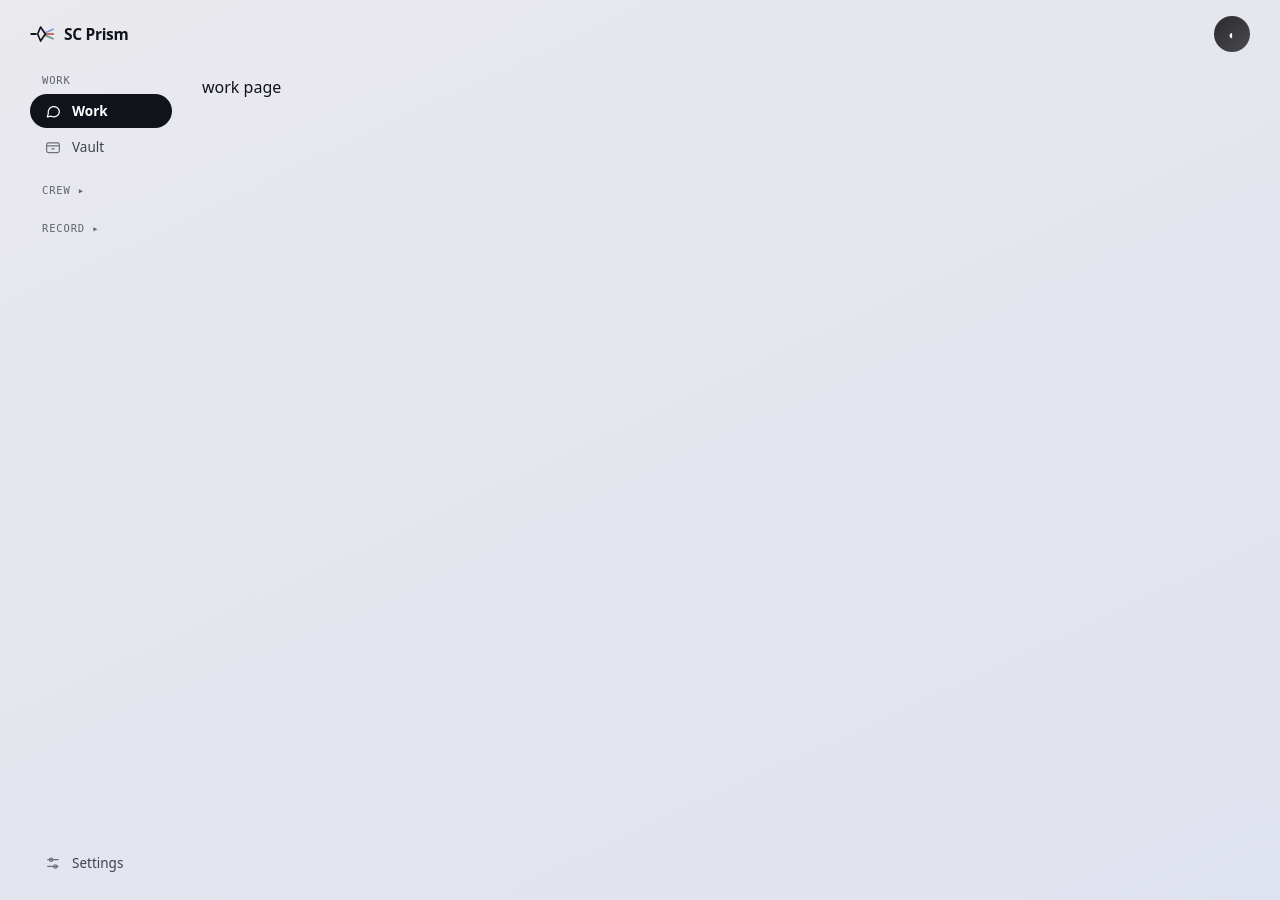
AppShell navigation — one rail, every destination, every page › navigating swaps the page and moves the marker with it
Expected: the text "work page" is shown, x1=202 y1=76 x2=281 y2=98
Click the button "Crew ▸" at (101, 193), box x1=30 y1=184 x2=172 y2=202
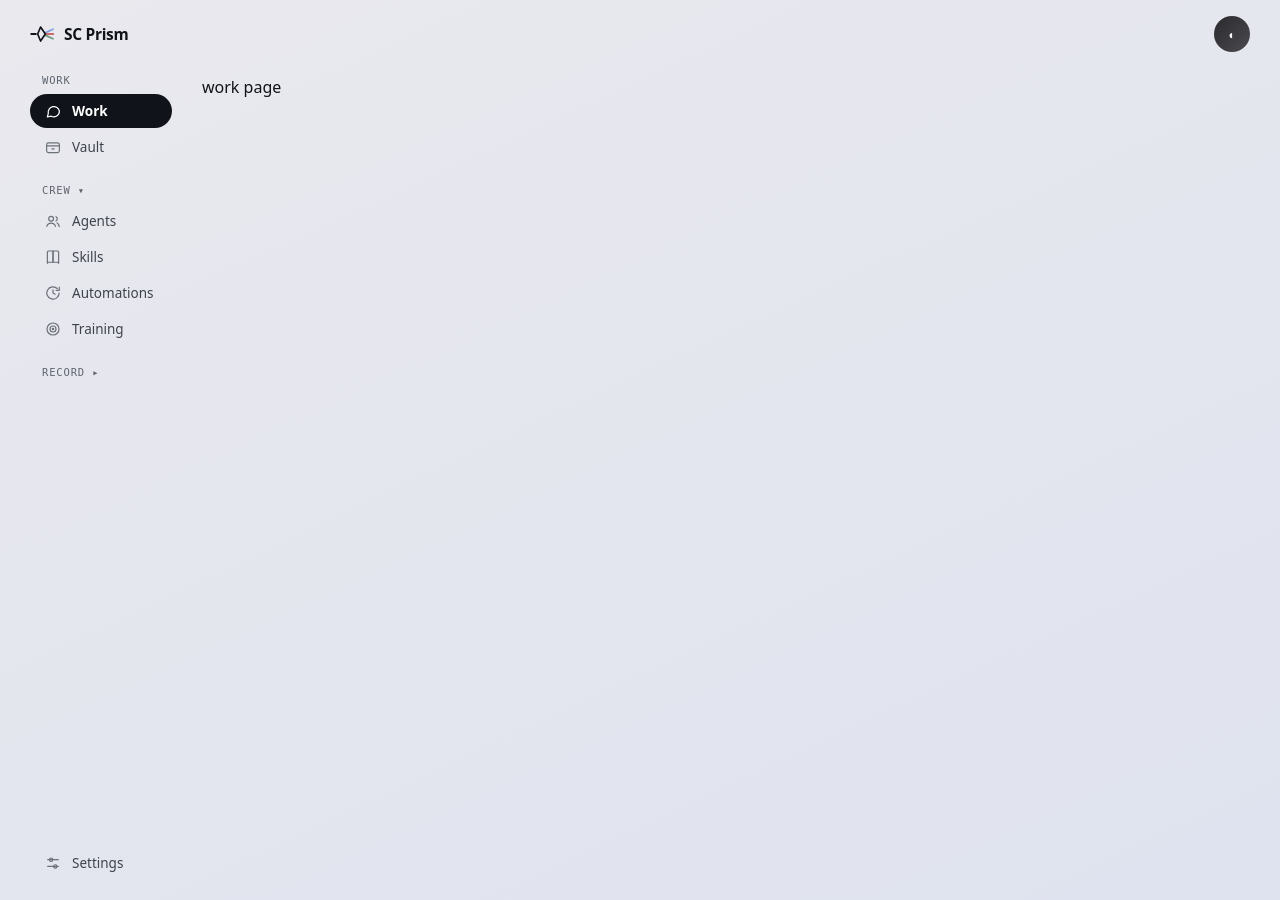
Click the link "Agents" at (80, 221), box x1=44 y1=212 x2=116 y2=230
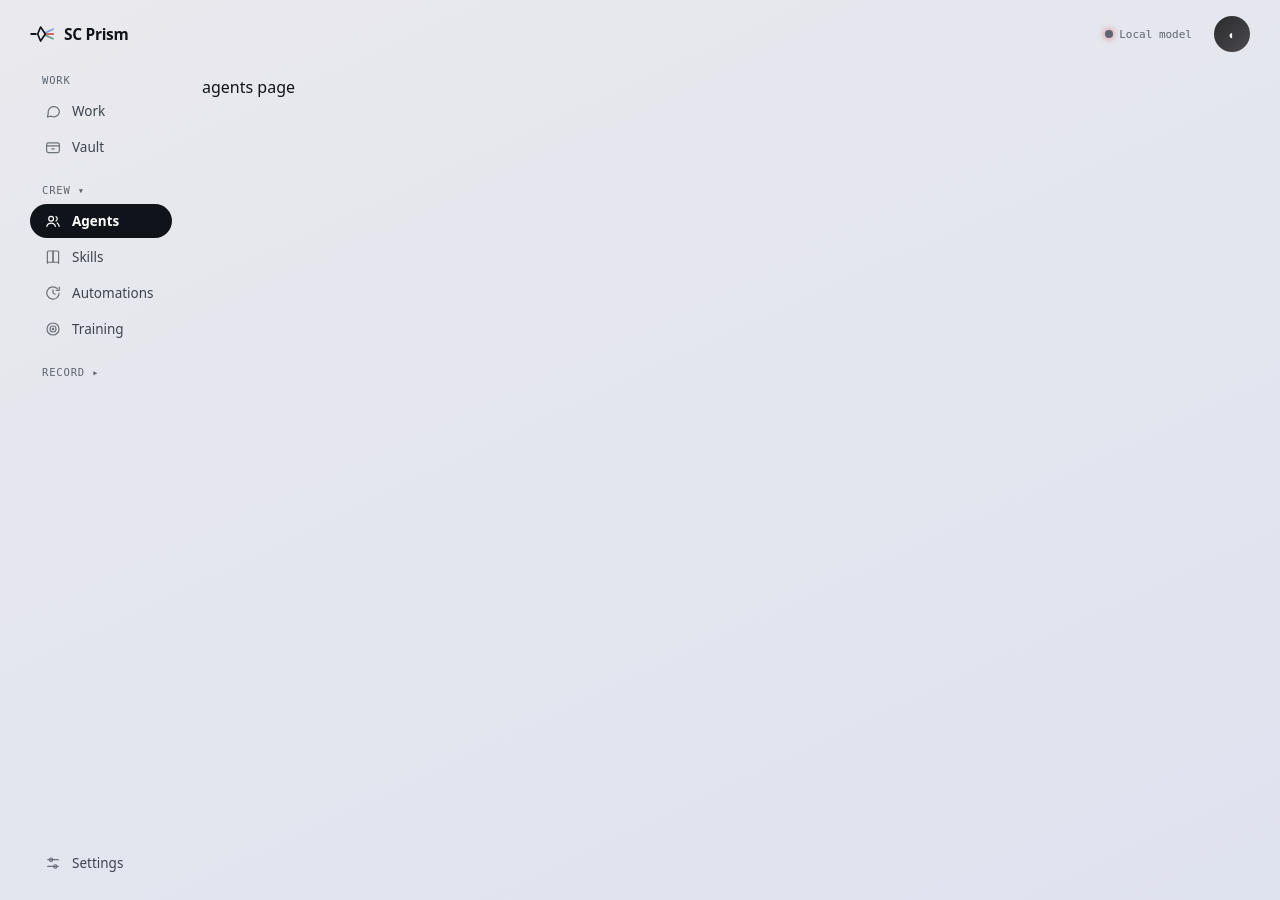
Expected: the navigation bar with class "rail" is shown, x1=30 y1=74 x2=172 y2=872
Expected: the text "agents page" is shown, x1=202 y1=76 x2=295 y2=98
